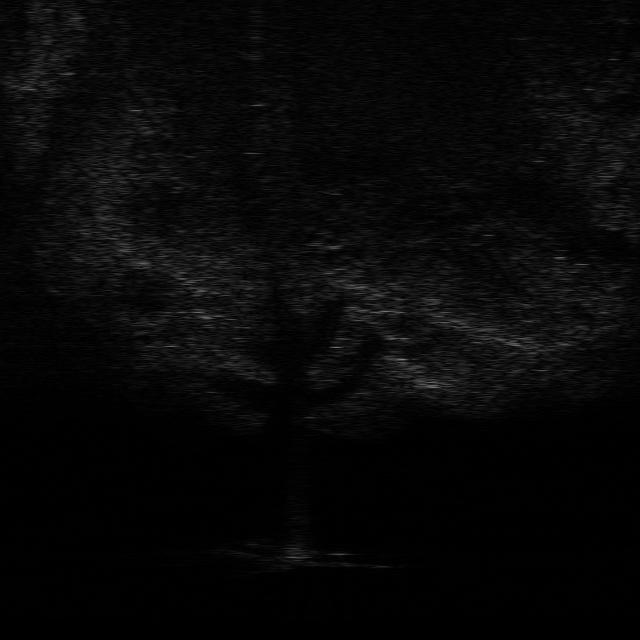plane: (216, 536, 394, 572)
